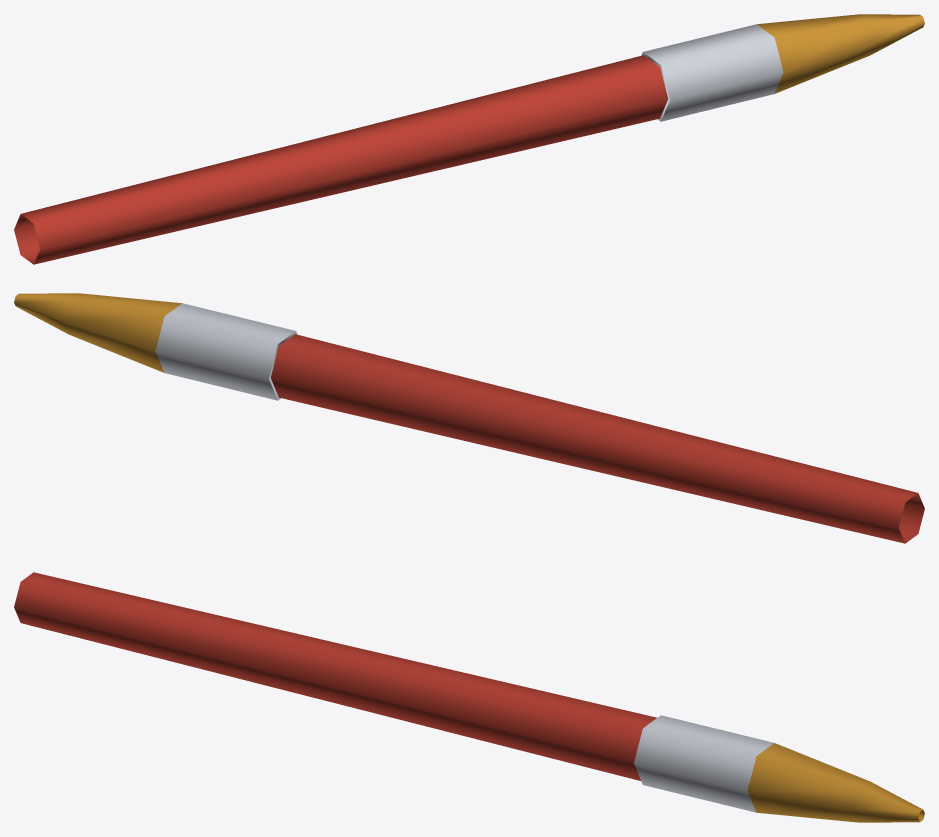
The model's file is item_ic_lost_brush.glb.
The picture shows the model from 3 angles, top to bottom: view 1: azimuth 30°, elevation 25°; view 2: azimuth 150°, elevation 25°; view 3: azimuth 330°, elevation 25°; orthographic projection.
Visible parts, largest first — view 1: item_ic_lost_brush_main, item_ic_lost_brush_gloss; view 2: item_ic_lost_brush_main, item_ic_lost_brush_gloss; view 3: item_ic_lost_brush_main, item_ic_lost_brush_gloss.
Part boxes in pixels (x1=…): item_ic_lost_brush_main: x1=14, y1=14, x2=924, y2=264; item_ic_lost_brush_gloss: x1=641, y1=24, x2=783, y2=121; item_ic_lost_brush_main: x1=14, y1=293, x2=924, y2=543; item_ic_lost_brush_gloss: x1=155, y1=303, x2=297, y2=400; item_ic_lost_brush_main: x1=14, y1=572, x2=924, y2=822; item_ic_lost_brush_gloss: x1=634, y1=715, x2=773, y2=812.
Bounding box in the file's own units: 0.315 × 0.0191 × 0.022.
